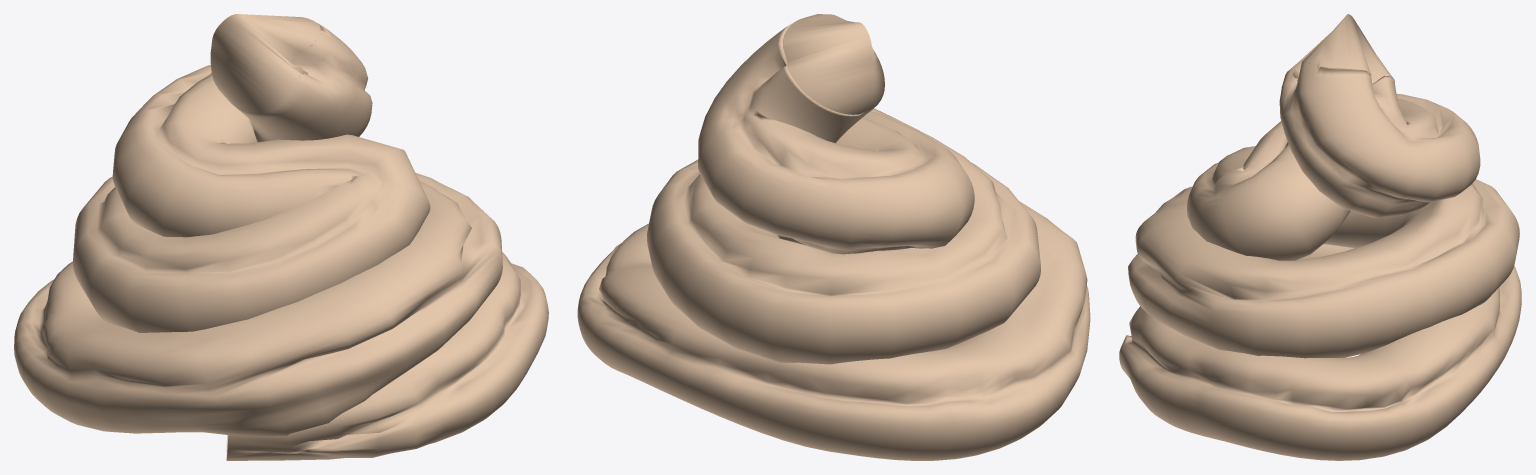
The model's file is IceCreamModel.obj.
3 renders of one model, left to right at view 1: azimuth 30°, elevation 25°; view 2: azimuth 150°, elevation 25°; view 3: azimuth 270°, elevation 25°, orthographic. The views are drawn at different scales.
Parts seen in each view (by area): view 1: Ice_cream; view 2: Ice_cream; view 3: Ice_cream.
Part boxes in pixels (bbox=[...]): Ice_cream: bbox=[14, 14, 548, 460]; Ice_cream: bbox=[577, 14, 1090, 460]; Ice_cream: bbox=[1119, 14, 1521, 460].
Bounding box in the file's own units: 0.7227 × 0.571 × 0.5839.
Materials: 1 (1 with a texture image).
